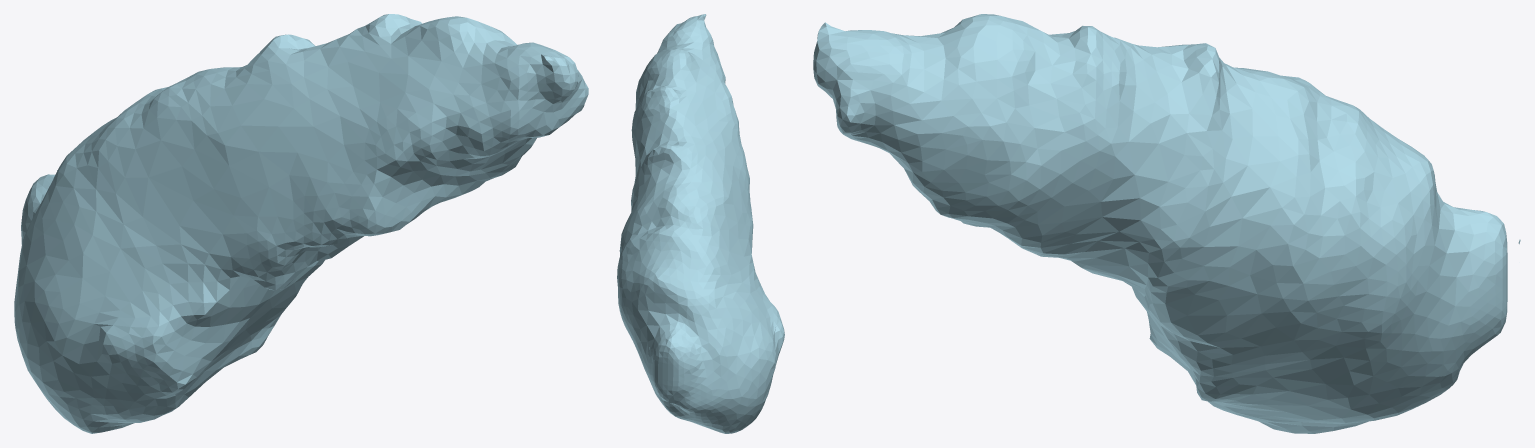
Rendered from gallbladder.obj.
3 renders of one model, left to right at view 1: azimuth 30°, elevation 25°; view 2: azimuth 150°, elevation 25°; view 3: azimuth 270°, elevation 25°, orthographic. The views are drawn at different scales.
Visible parts, largest first — view 1: grp1; view 2: grp1; view 3: grp1.
Boxes of the visible parts, x1=… form: grp1: x1=14, y1=14, x2=588, y2=433; grp1: x1=617, y1=14, x2=784, y2=433; grp1: x1=813, y1=14, x2=1520, y2=433.
Bounding box in the file's own units: 32.85 × 40.45 × 47.19.
